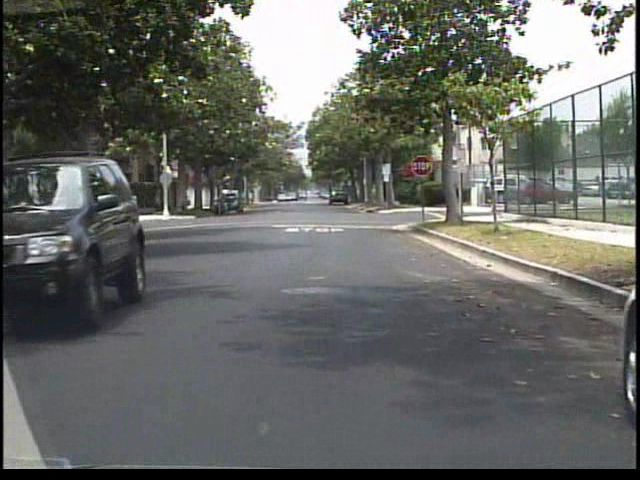person: (215, 178, 238, 220)
